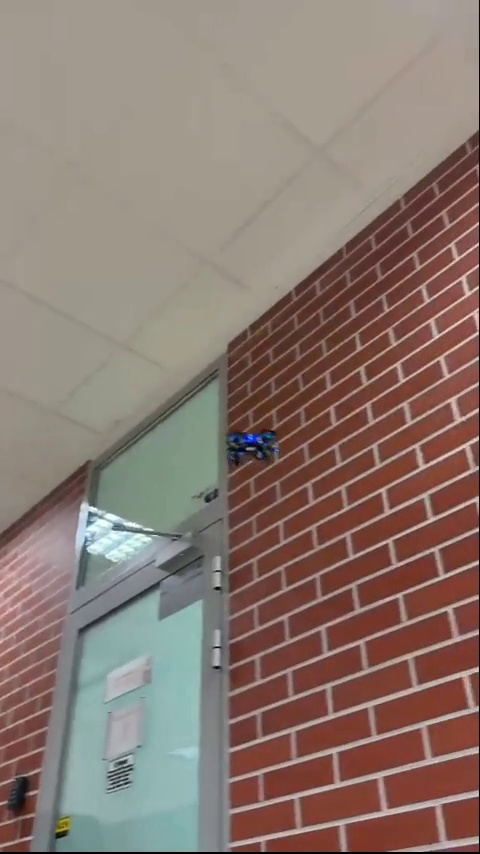drone: (225, 426, 277, 463)
